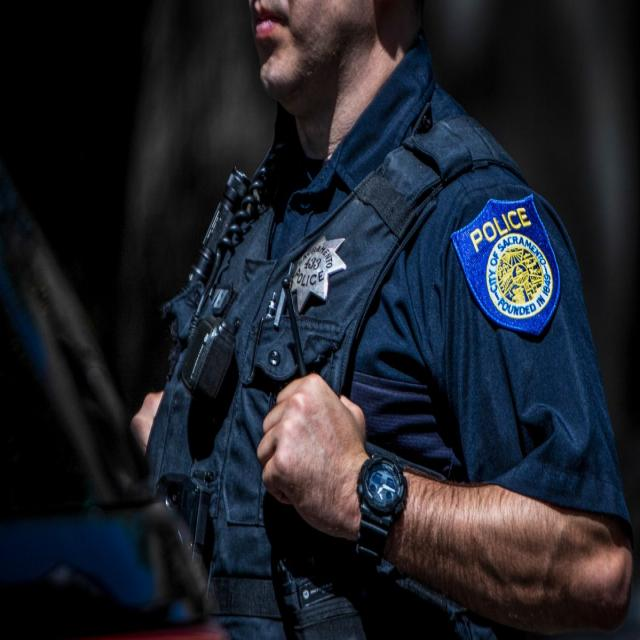police: (126, 0, 630, 640)
